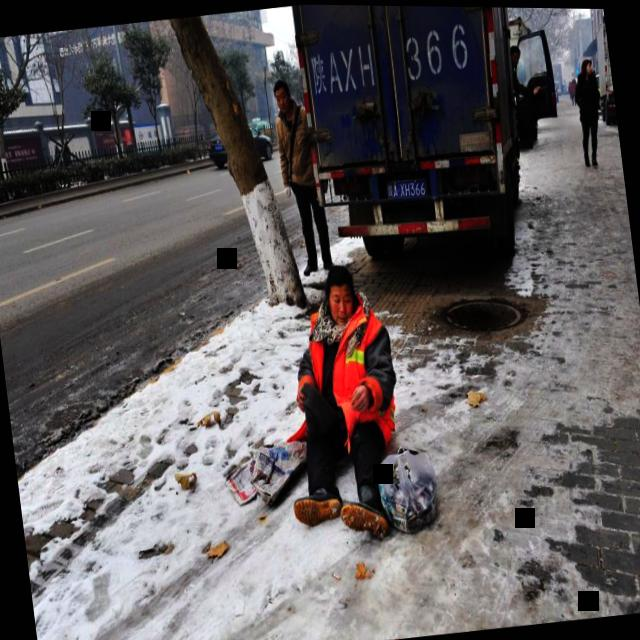Fall-Detected: (260, 236, 425, 562)
